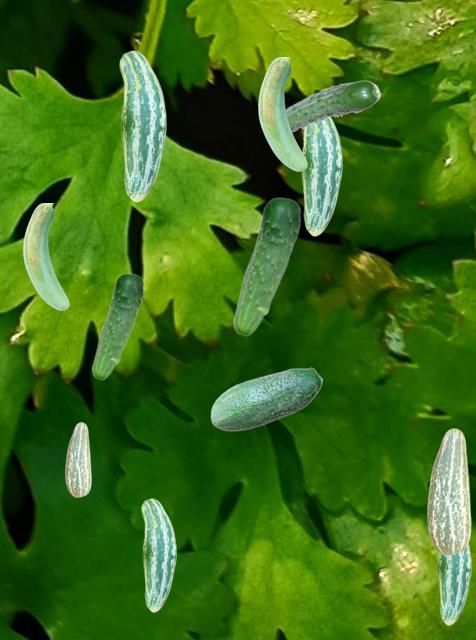cucumber: (232, 197, 300, 335), (210, 367, 322, 430), (119, 50, 165, 201), (91, 273, 143, 379), (258, 57, 306, 170), (427, 428, 470, 554), (286, 80, 380, 132), (300, 118, 341, 235), (23, 203, 68, 309), (141, 498, 175, 611), (437, 543, 470, 624), (65, 422, 90, 496)
